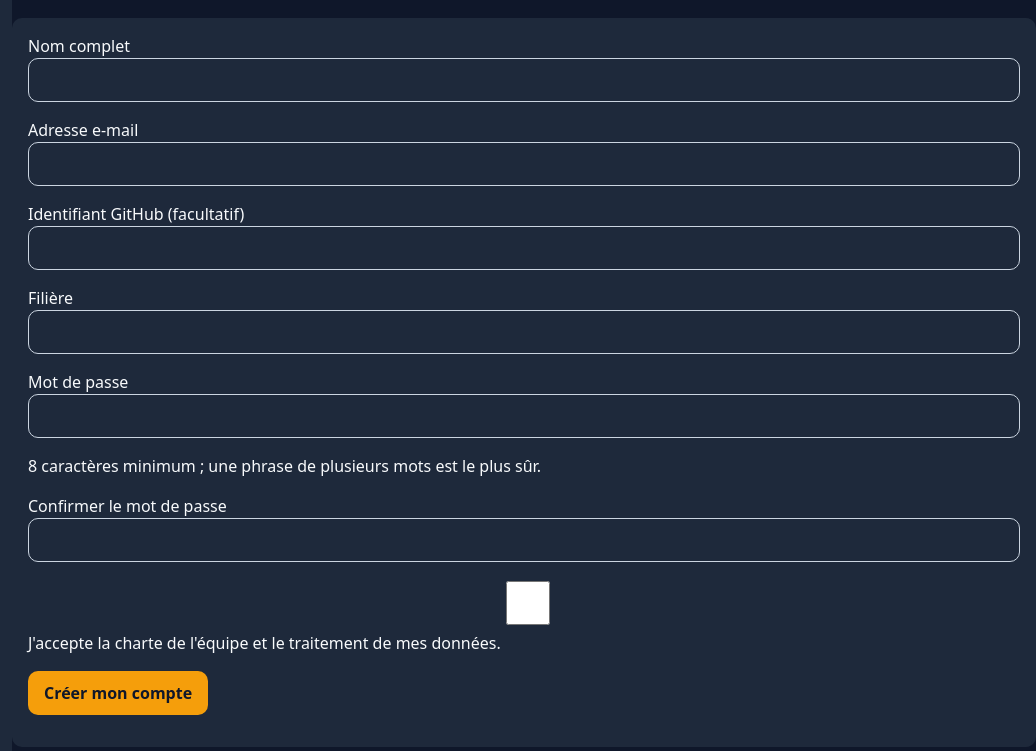
Scenario: Inscription › affiche les erreurs si le formulaire est vide
(page scrolled)
Click the button "Créer mon compte" at (118, 693), box [28,671,208,715]
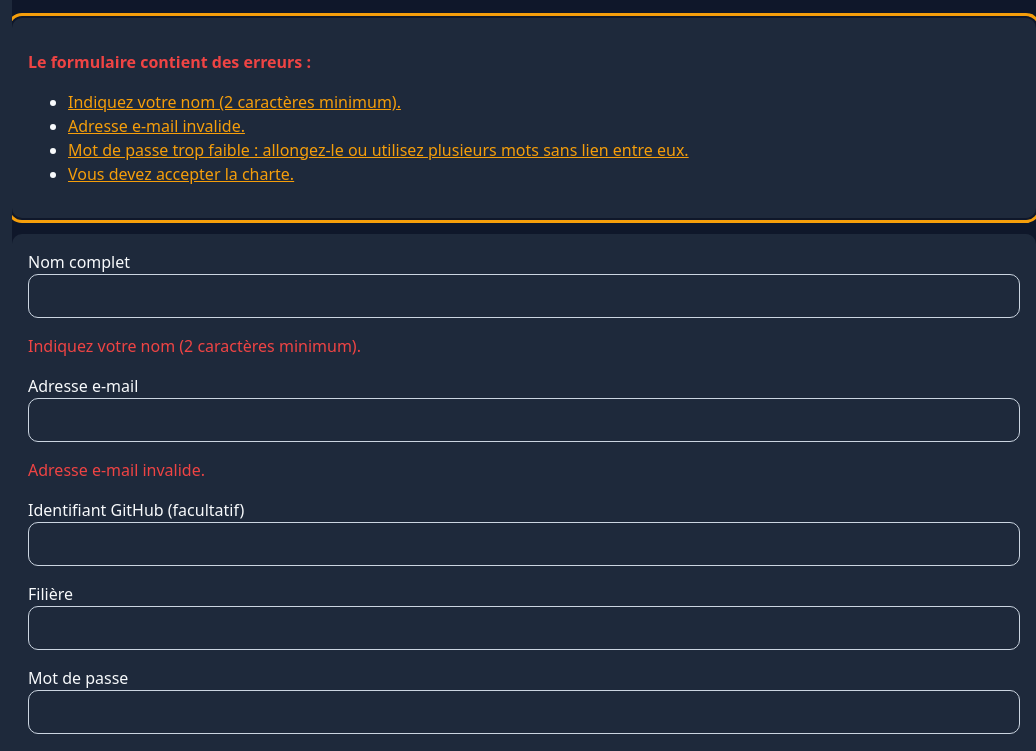
Expected: the message is shown, [12,18,1035,218]
Expected: the link "Adresse e-mail invalide." is shown, [68,115,245,137]
